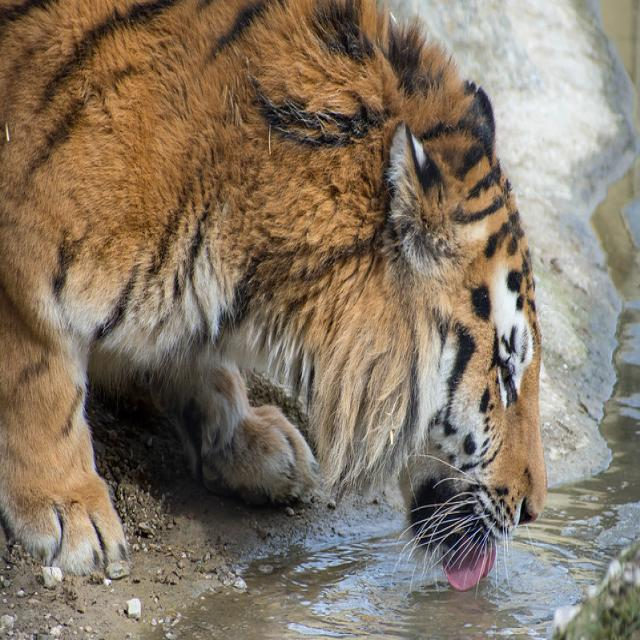Tiger: (5, 2, 552, 597)
